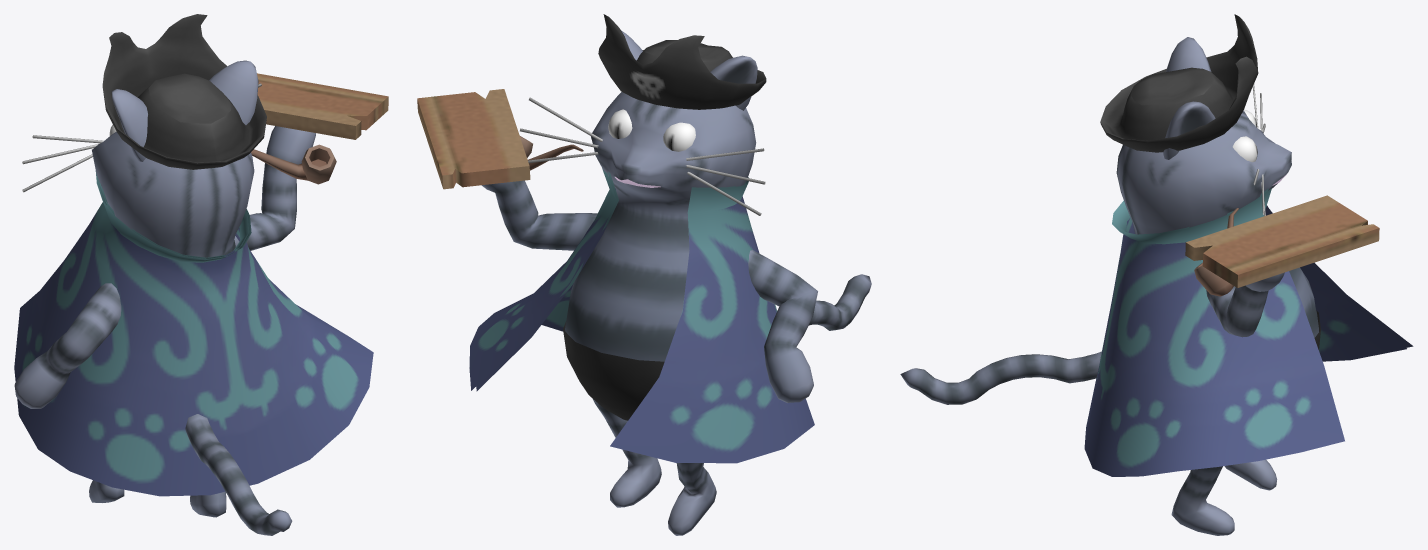
Rendered from neko_walk_c_08.fbx.
3 renders of one model, left to right at view 1: azimuth 30°, elevation 25°; view 2: azimuth 150°, elevation 25°; view 3: azimuth 270°, elevation 25°, orthographic. The views are drawn at different scales.
Parts seen in each view (by area): view 1: W_c_08; view 2: W_c_08; view 3: W_c_08.
Part boxes in pixels (<box>): W_c_08: <box>14,14,388,535</box>; W_c_08: <box>417,14,871,535</box>; W_c_08: <box>900,14,1413,535</box>.
Bounding box in the file's own units: 1.62 × 1.99 × 1.94.
Materials: 1 (1 with a texture image).
